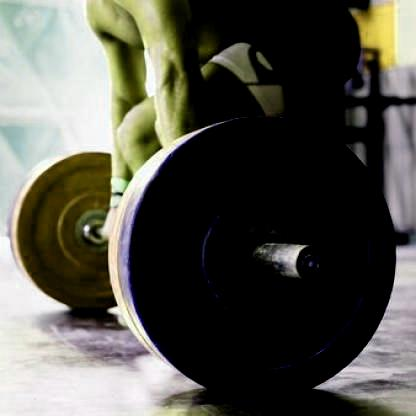Barbell: (287, 237, 334, 282)
